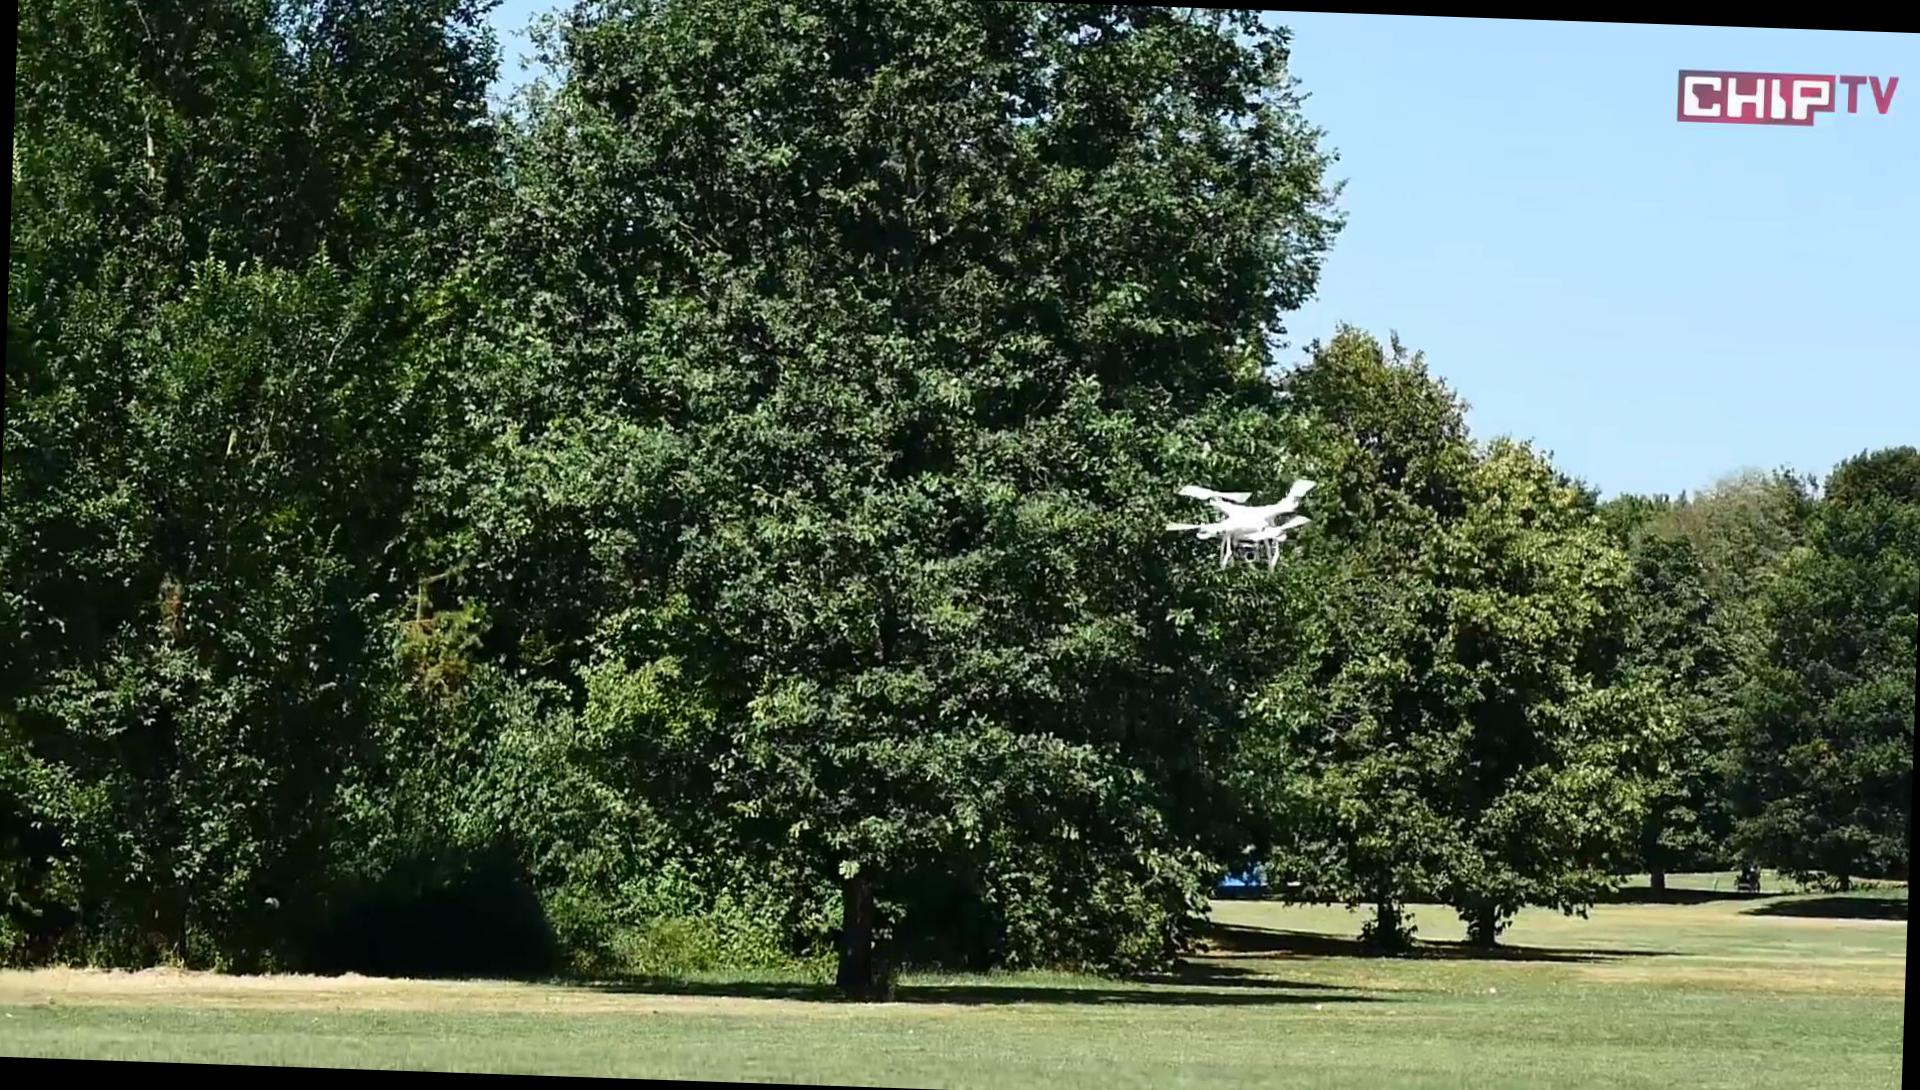drone: (1170, 468, 1314, 570)
